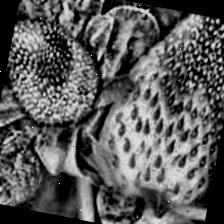Anthracnose Fruit Rot: (141, 9, 224, 160), (24, 24, 78, 94)
